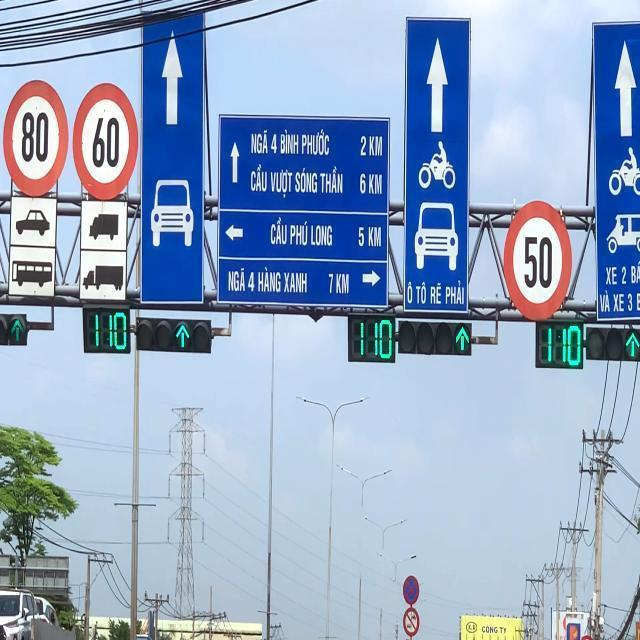127-toc-do-toi-da-50: (504, 198, 574, 320)
127-toc-do-toi-da-60: (70, 82, 142, 198)
127-toc-do-toi-da-80: (3, 78, 72, 194)
